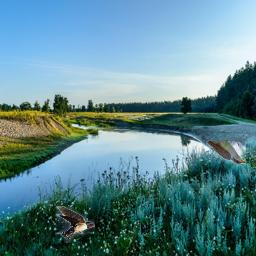Cuckoo: (206, 139, 246, 164)
Swallow: (55, 206, 95, 243)
